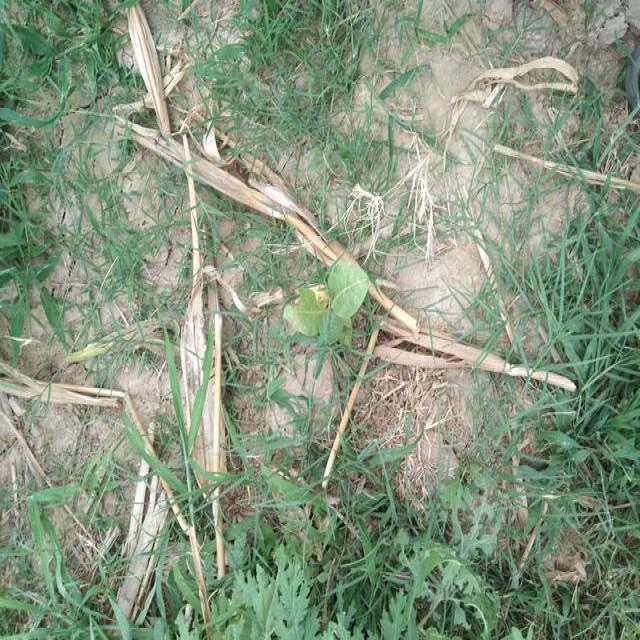crop: (275, 238, 381, 369)
